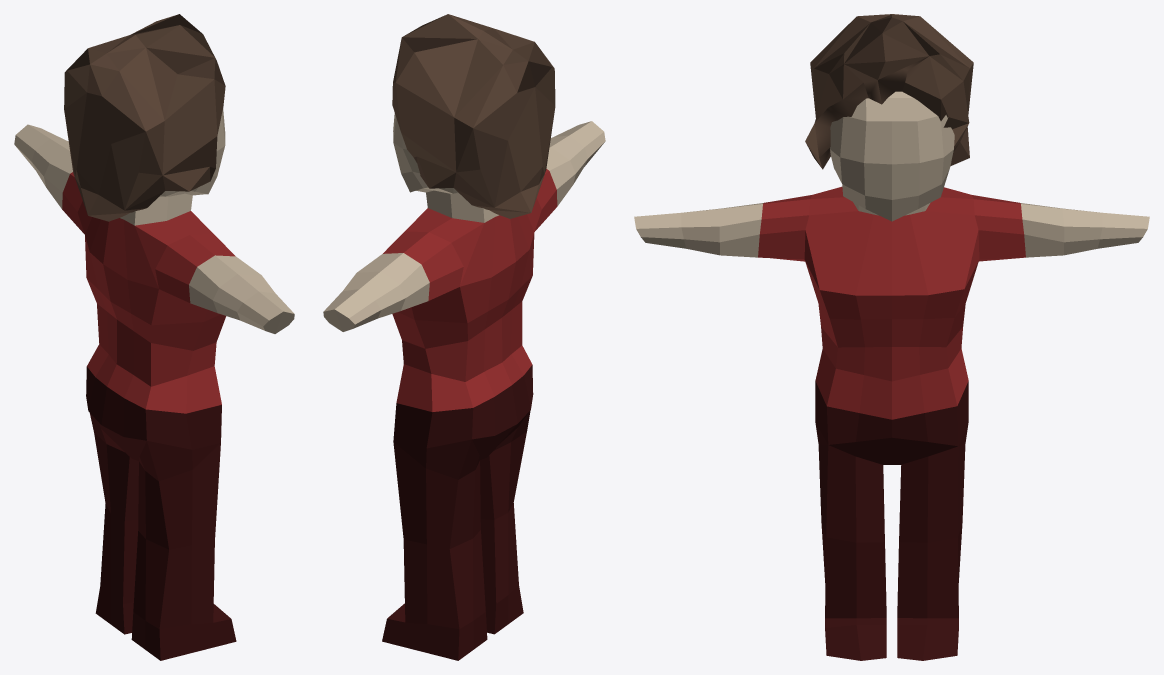
File: Character.fbx
The picture shows the model from 3 angles, left to right: view 1: azimuth 30°, elevation 25°; view 2: azimuth 150°, elevation 25°; view 3: azimuth 270°, elevation 25°; orthographic projection.
Visible parts, largest first — view 1: Character1; view 2: Character1; view 3: Character1.
Boxes of the visible parts, x1,y1,x2,y2 form: Character1: (14, 14, 294, 660); Character1: (323, 14, 605, 660); Character1: (634, 14, 1149, 660).
Bounding box in the file's own units: 1.44 × 6.03 × 4.63.
